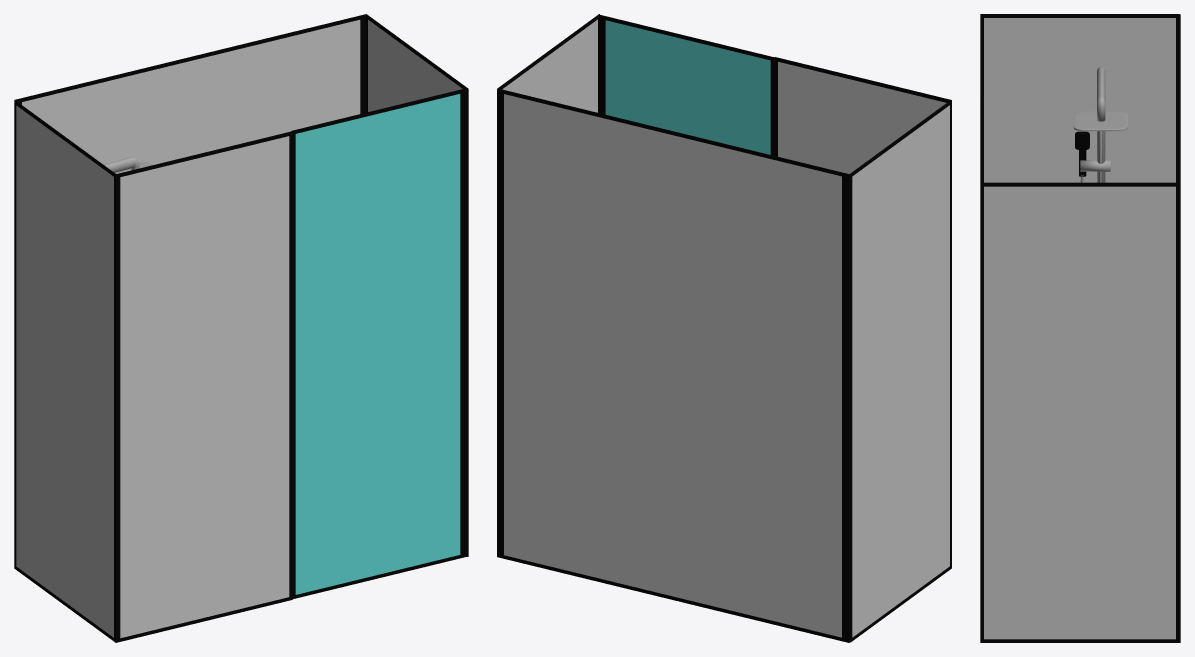
File: shower booth.fbx
3 views of the same model, side by side, from view 1: azimuth 30°, elevation 25°; view 2: azimuth 150°, elevation 25°; view 3: azimuth 270°, elevation 25° (orthographic).
Parts seen in each view (by area): view 1: Plane.003, Plane.001; view 2: Plane.003, Plane.001; view 3: Plane.003.
Boxes of the visible parts, left/top/right/bottom form: Plane.003: left=14, top=14, right=468, bottom=642; Plane.001: left=292, top=88, right=467, bottom=598; Plane.003: left=497, top=14, right=951, bottom=642; Plane.001: left=598, top=14, right=774, bottom=155; Plane.003: left=980, top=14, right=1180, bottom=642.
Bounding box in the file's own units: 401 × 509 × 201.
